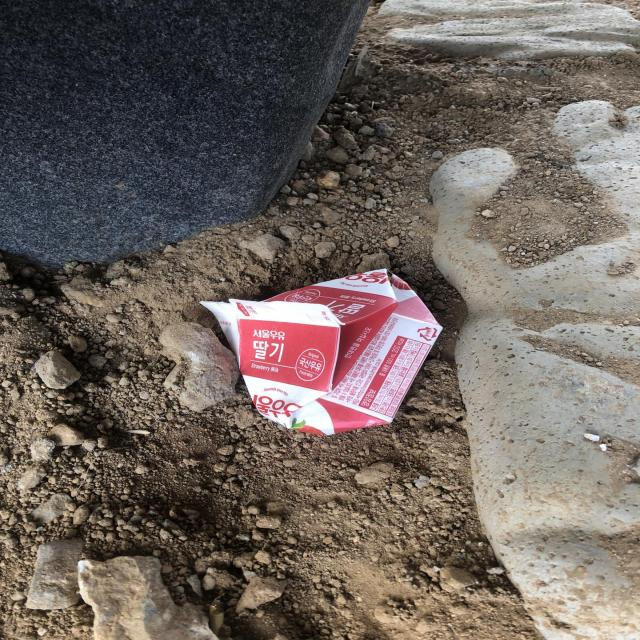paperpack: (201, 269, 443, 435)
